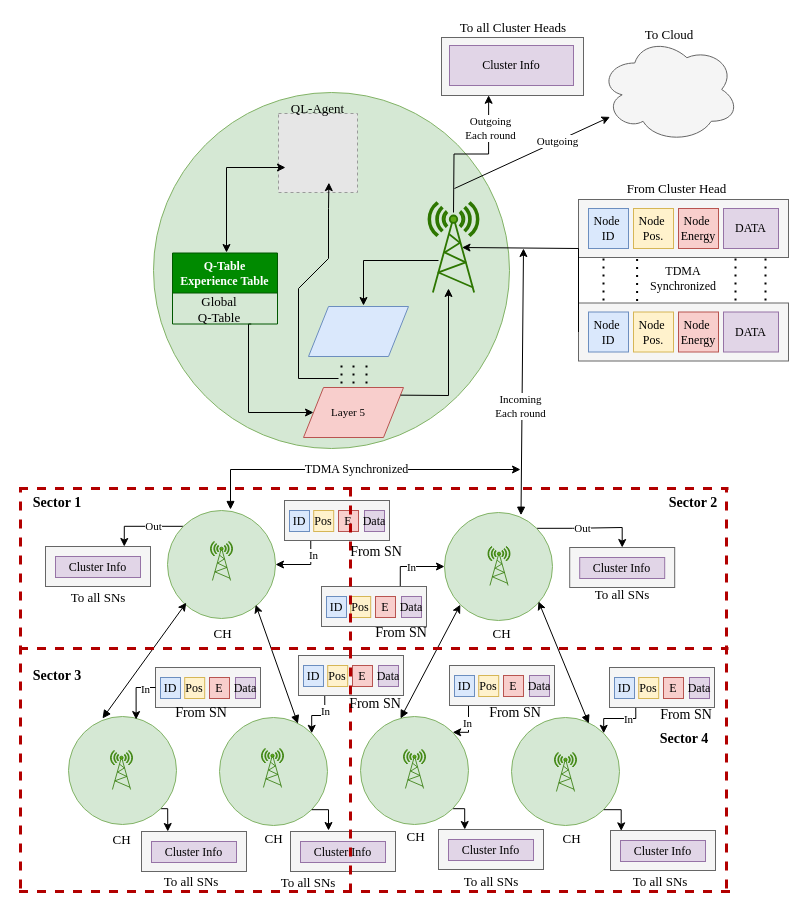
Image size: 806x912. Some labels were removed from this diagram. Grey dashed boxes stand in for pictures. Each missing label, with the centre of its shape:
"Data and Cluster Info Q-Table" goes at [669,89].
"Layer 1" goes at [358,331].
